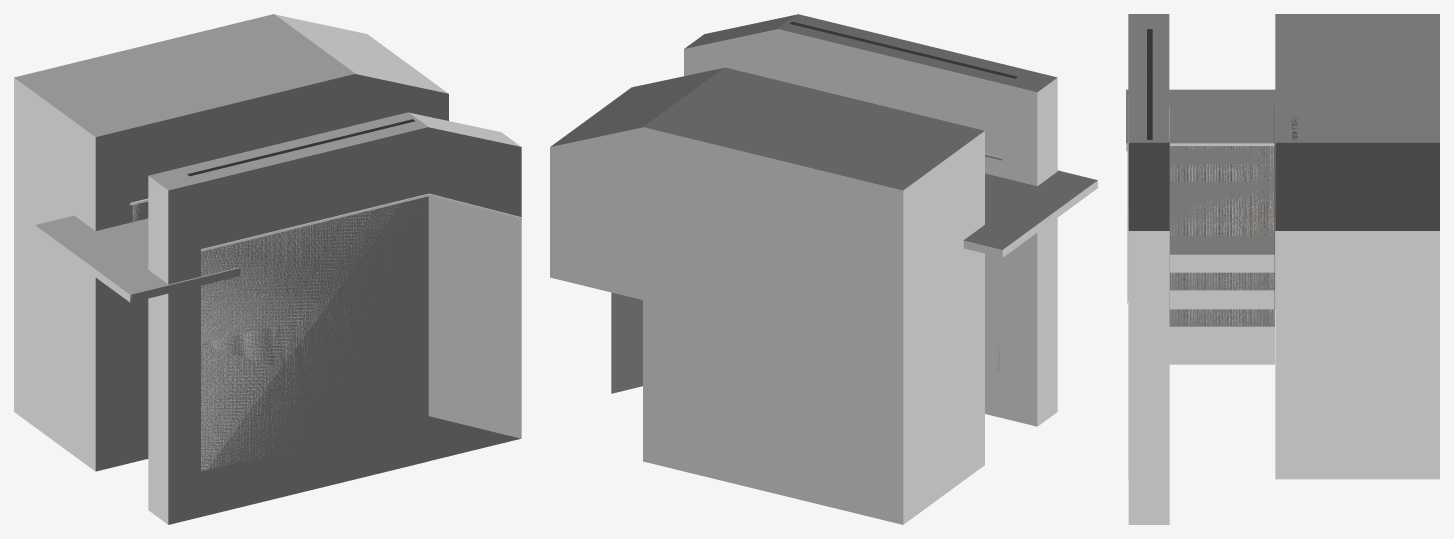
File: SM_Escalator_End_01a.fbx
The picture shows the model from 3 angles, left to right: view 1: azimuth 30°, elevation 25°; view 2: azimuth 150°, elevation 25°; view 3: azimuth 270°, elevation 25°; orthographic projection.
Visible parts, largest first — view 1: SM_Escalator_End_01a_ConvexHulls, SM_Escalator_End_01a; view 2: SM_Escalator_End_01a_ConvexHulls, SM_Escalator_End_01a; view 3: SM_Escalator_End_01a_ConvexHulls, SM_Escalator_End_01a.
Part boxes in pixels (left/top/right/bottom): SM_Escalator_End_01a_ConvexHulls: left=14, top=14, right=521, bottom=524; SM_Escalator_End_01a: left=129, top=119, right=521, bottom=471; SM_Escalator_End_01a_ConvexHulls: left=550, top=14, right=1097, bottom=524; SM_Escalator_End_01a: left=611, top=21, right=1017, bottom=393; SM_Escalator_End_01a_ConvexHulls: left=1126, top=14, right=1439, bottom=524; SM_Escalator_End_01a: left=1127, top=29, right=1297, bottom=325.
Bounding box in the file's own units: 434 × 292 × 346.
